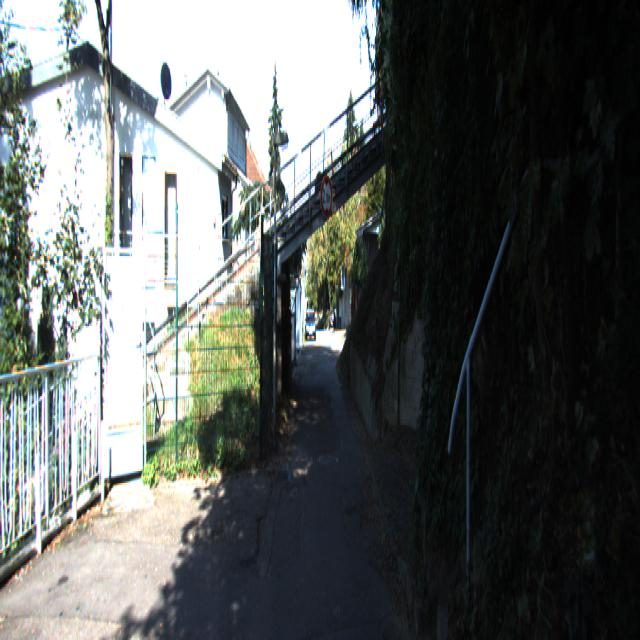Car: (305, 311, 316, 343)
